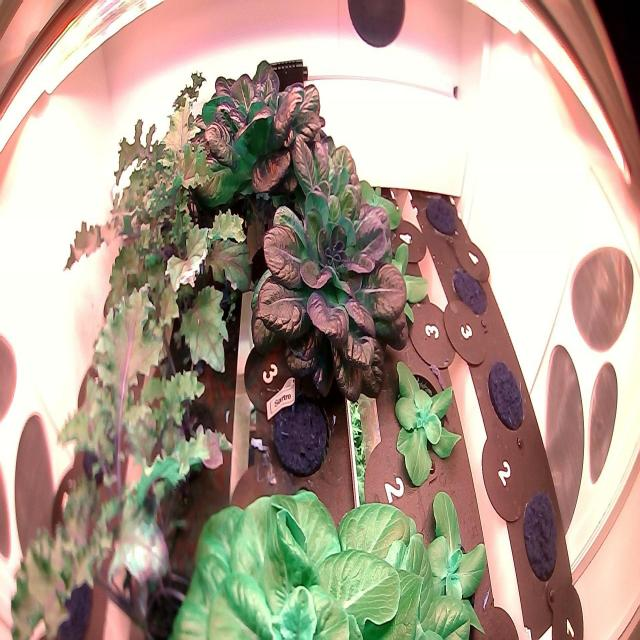Ready: (243, 172, 418, 409), (169, 479, 428, 638), (188, 50, 339, 252), (254, 122, 411, 281)
pod: (265, 363, 335, 480), (517, 488, 564, 590), (485, 354, 527, 434), (451, 264, 492, 320), (424, 185, 465, 238)
young: (412, 488, 492, 634), (382, 357, 471, 488), (366, 232, 438, 324), (331, 175, 410, 252)
